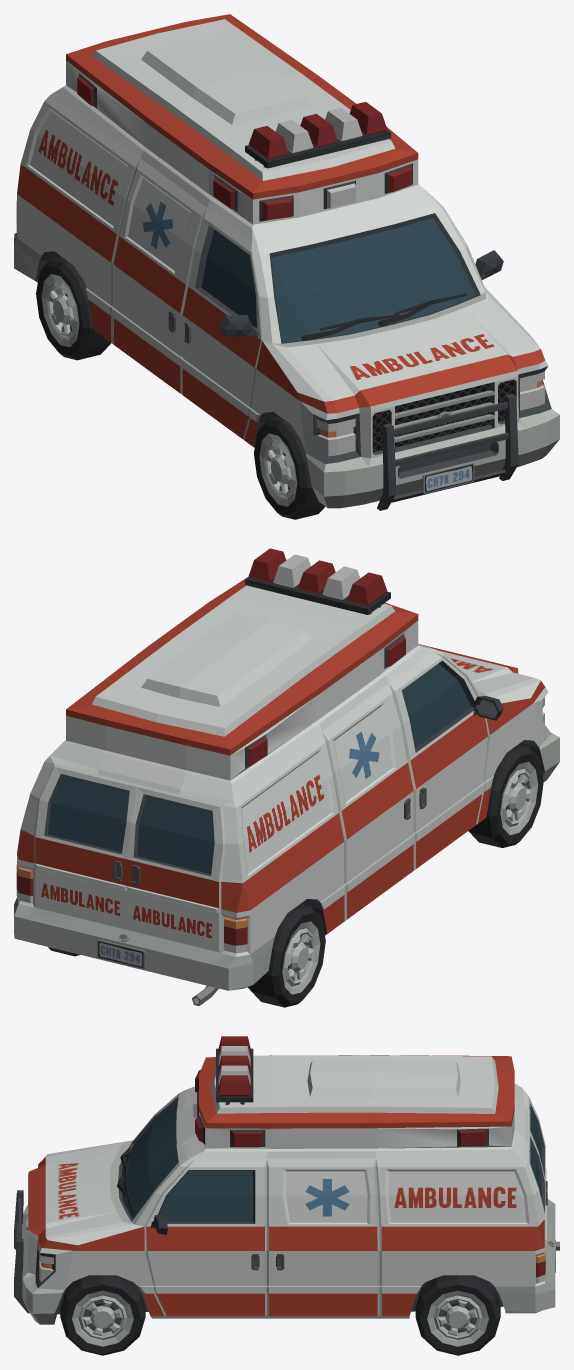
The model's file is ambulance.glb.
3 views of the same model, one above another, from view 1: azimuth 30°, elevation 25°; view 2: azimuth 150°, elevation 25°; view 3: azimuth 270°, elevation 25° (orthographic). The views are drawn at different scales.
Visible parts, largest first — view 1: SM_Veh_Car_Ambo_01, SM_Veh_Car_Ambo_Glass, SM_Veh_Car_Ambo_Wheel_rr, SM_Veh_Car_Ambo_Wheel_fr, SM_Veh_Car_Ambo_Plates; view 2: SM_Veh_Car_Ambo_01, SM_Veh_Car_Ambo_Door_l, SM_Veh_Car_Ambo_Door_r, SM_Veh_Car_Ambo_Wheel_rr, SM_Veh_Car_Ambo_Wheel_fr, SM_Veh_Car_Ambo_Door_r_Glass, SM_Veh_Car_Ambo_Door_l_Glass, SM_Veh_Car_Ambo_Glass, SM_Veh_Car_Ambo_Plates; view 3: SM_Veh_Car_Ambo_01, SM_Veh_Car_Ambo_Glass, SM_Veh_Car_Ambo_Wheel_rl, SM_Veh_Car_Ambo_Wheel_fl, SM_Veh_Car_Ambo_Door_l, SM_Veh_Car_Ambo_Door_r.
Part boxes in pixels (x1=…): SM_Veh_Car_Ambo_01: x1=14, y1=14, x2=559, y2=510; SM_Veh_Car_Ambo_Glass: x1=201, y1=218, x2=475, y2=342; SM_Veh_Car_Ambo_Wheel_rr: x1=36, y1=256, x2=110, y2=360; SM_Veh_Car_Ambo_Wheel_fr: x1=254, y1=416, x2=325, y2=519; SM_Veh_Car_Ambo_Plates: x1=422, y1=462, x2=474, y2=493; SM_Veh_Car_Ambo_01: x1=14, y1=548, x2=559, y2=1005; SM_Veh_Car_Ambo_Door_l: x1=35, y1=767, x2=137, y2=928; SM_Veh_Car_Ambo_Door_r: x1=127, y1=787, x2=223, y2=950; SM_Veh_Car_Ambo_Wheel_rr: x1=247, y1=904, x2=325, y2=1007; SM_Veh_Car_Ambo_Wheel_fr: x1=468, y1=744, x2=543, y2=847; SM_Veh_Car_Ambo_Door_r_Glass: x1=137, y1=796, x2=214, y2=874; SM_Veh_Car_Ambo_Door_l_Glass: x1=48, y1=776, x2=129, y2=852; SM_Veh_Car_Ambo_Glass: x1=401, y1=663, x2=471, y2=748; SM_Veh_Car_Ambo_Plates: x1=97, y1=939, x2=145, y2=969; SM_Veh_Car_Ambo_01: x1=14, y1=1036, x2=559, y2=1324; SM_Veh_Car_Ambo_Glass: x1=121, y1=1102, x2=252, y2=1221; SM_Veh_Car_Ambo_Wheel_rl: x1=415, y1=1275, x2=500, y2=1355; SM_Veh_Car_Ambo_Wheel_fl: x1=60, y1=1275, x2=145, y2=1355; SM_Veh_Car_Ambo_Door_l: x1=529, y1=1130, x2=547, y2=1243; SM_Veh_Car_Ambo_Door_r: x1=529, y1=1097, x2=547, y2=1187.
Size of the model in its own units: 2.28 by 2.38 by 4.7.
Materials: 2 (1 with a texture image).
